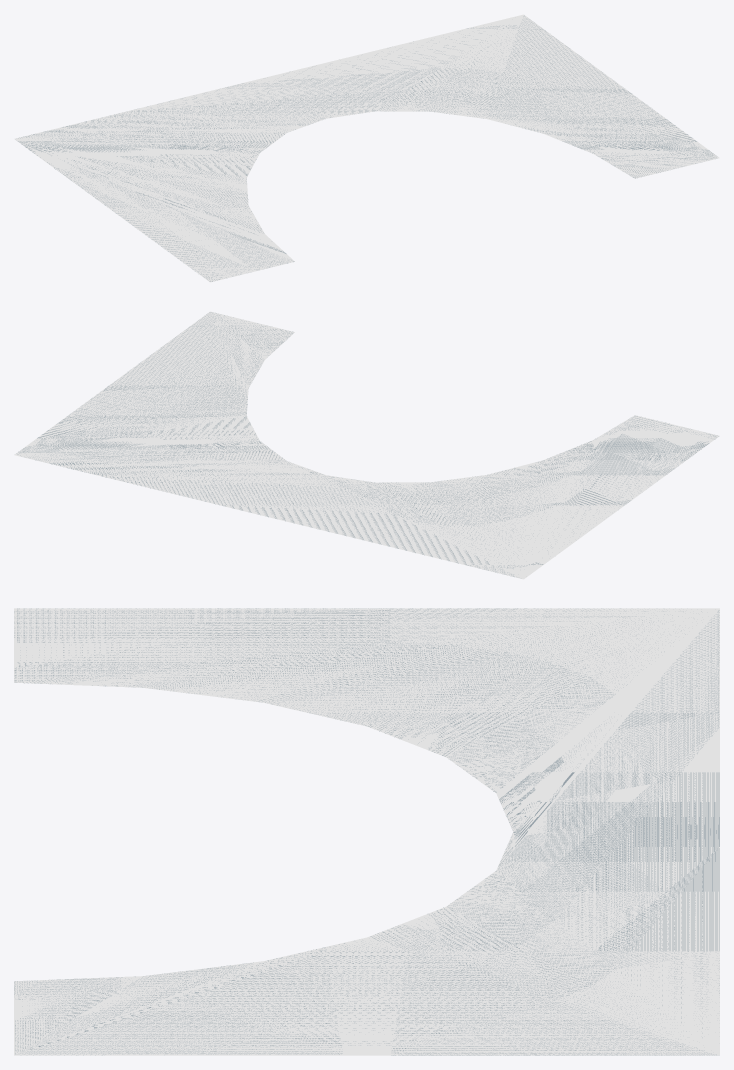
The picture shows the model from 3 angles, top to bottom: view 1: azimuth 30°, elevation 25°; view 2: azimuth 150°, elevation 25°; view 3: azimuth 270°, elevation 25°; orthographic projection. The views are drawn at different scales.
Parts seen in each view (by area): view 1: Group1; view 2: Group1; view 3: Group1.
Boxes of the visible parts, x1=… form: Group1: x1=14, y1=14, x2=719, y2=282; Group1: x1=14, y1=311, x2=719, y2=579; Group1: x1=14, y1=608, x2=719, y2=1055.
Bounding box in the file's own units: 6 × 1.01e-14 × 4.
